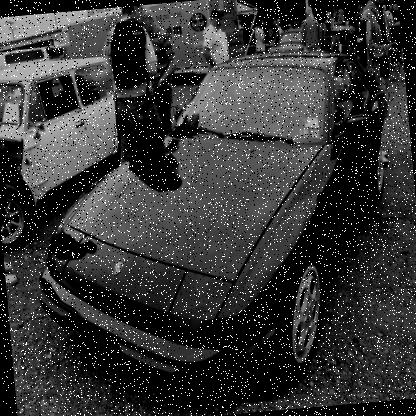Car: (0, 19, 404, 415), (0, 55, 128, 246), (264, 24, 326, 57)
